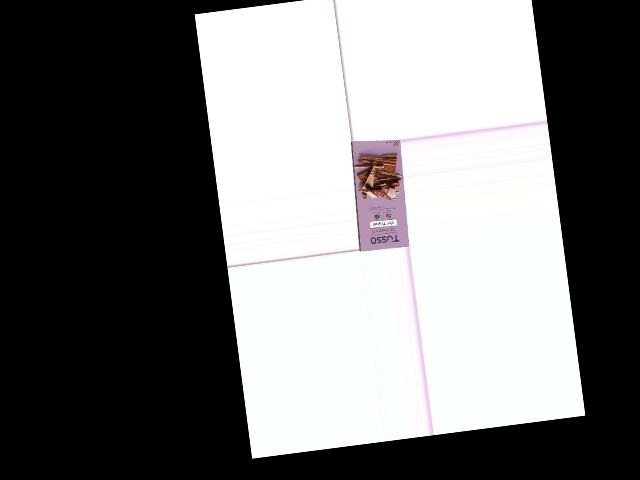chocolate: (348, 135, 410, 250)
